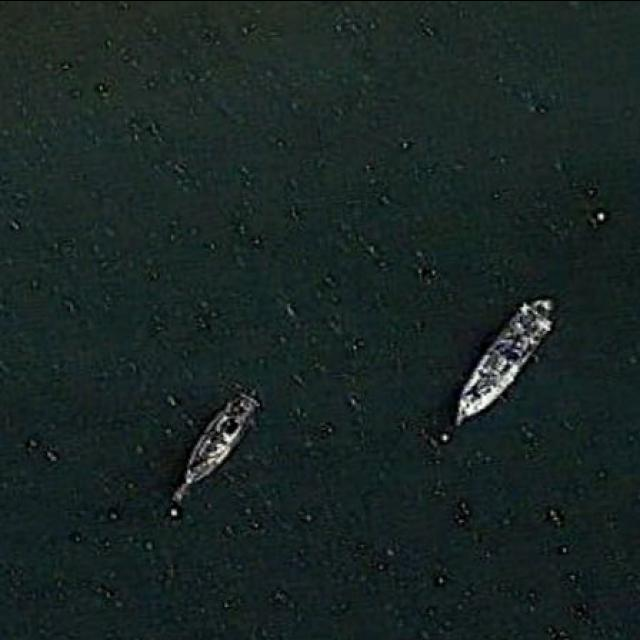ship: (448, 299, 550, 429), (169, 389, 257, 498)
